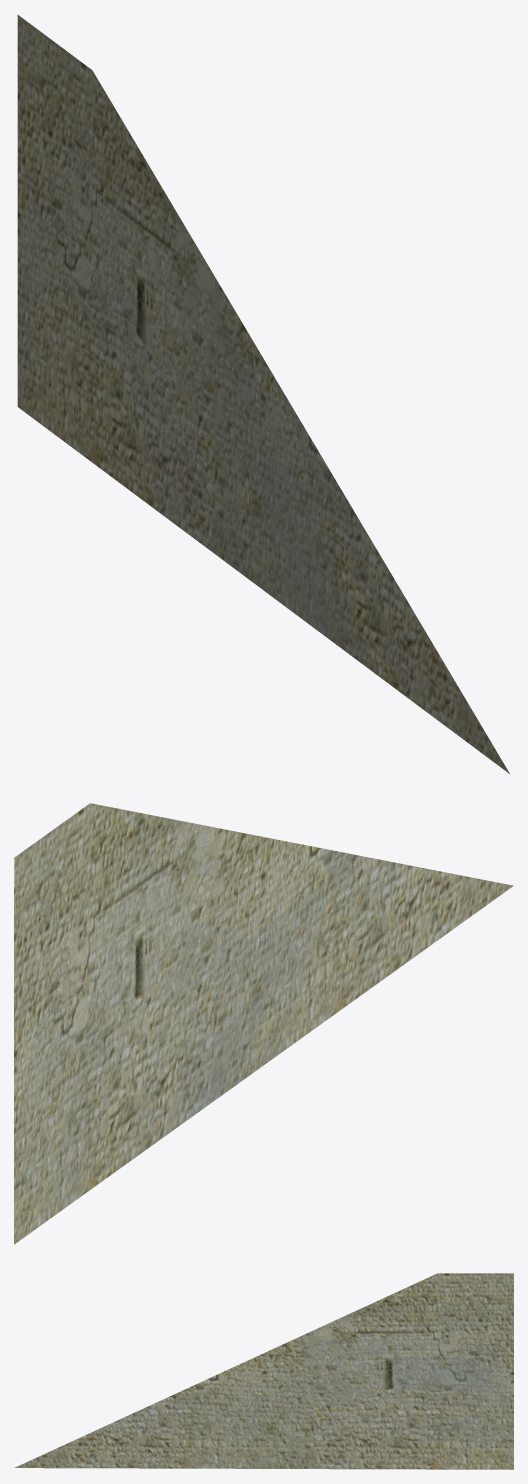
Rendered from 西庸城堡632.dae.
3 renders of one model, top to bottom at view 1: azimuth 30°, elevation 25°; view 2: azimuth 150°, elevation 25°; view 3: azimuth 270°, elevation 25°, orthographic. The views are drawn at different scales.
Visible parts, largest first — view 1: SketchUp; view 2: SketchUp; view 3: SketchUp.
Boxes of the visible parts, box(x1,y1,x2,y2) form: SketchUp: box(17, 15, 509, 773); SketchUp: box(14, 803, 513, 1244); SketchUp: box(14, 1273, 513, 1469).
Size of the model in its own units: 8.39 by 1014 by 439.
